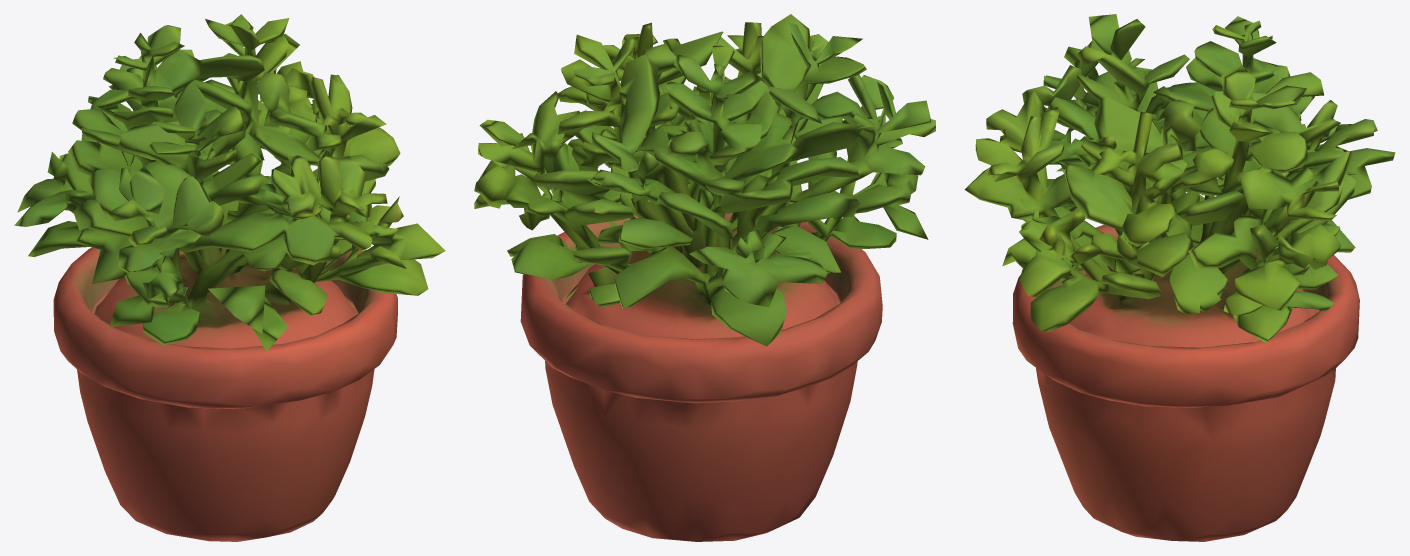
The model's file is planta suculenta 3d modelo.glb.
3 renders of one model, left to right at view 1: azimuth 30°, elevation 25°; view 2: azimuth 150°, elevation 25°; view 3: azimuth 270°, elevation 25°, orthographic. The views are drawn at different scales.
Parts seen in each view (by area): view 1: tripo_node_00eec47d-ce85-4d14-80ee-6a4875ea9f77; view 2: tripo_node_00eec47d-ce85-4d14-80ee-6a4875ea9f77; view 3: tripo_node_00eec47d-ce85-4d14-80ee-6a4875ea9f77.
Boxes of the visible parts, x1=… form: tripo_node_00eec47d-ce85-4d14-80ee-6a4875ea9f77: x1=14, y1=14, x2=445, y2=541; tripo_node_00eec47d-ce85-4d14-80ee-6a4875ea9f77: x1=474, y1=14, x2=935, y2=541; tripo_node_00eec47d-ce85-4d14-80ee-6a4875ea9f77: x1=964, y1=14, x2=1395, y2=541.
Size of the model in its own units: 0.7831 by 1 by 0.8575.
Materials: 1 (1 with a texture image).
